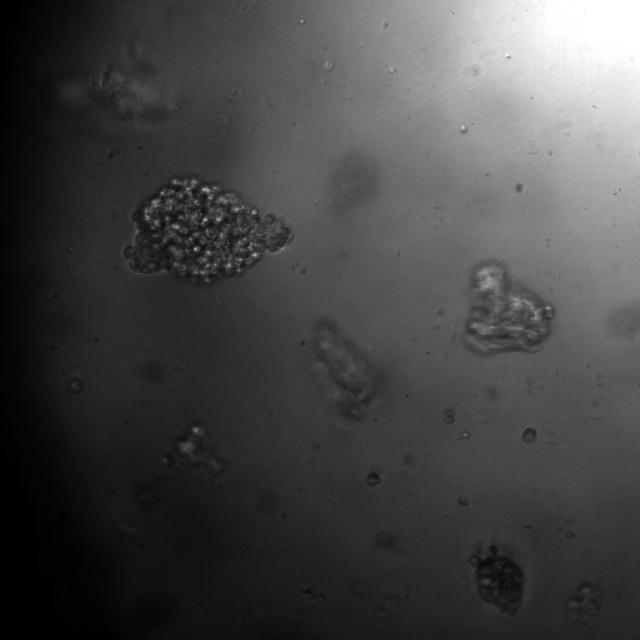organoid: (123, 176, 291, 285), (466, 261, 554, 354), (315, 319, 375, 417), (161, 423, 228, 485), (468, 545, 524, 615), (366, 471, 381, 487), (522, 428, 536, 443), (456, 496, 469, 511)
